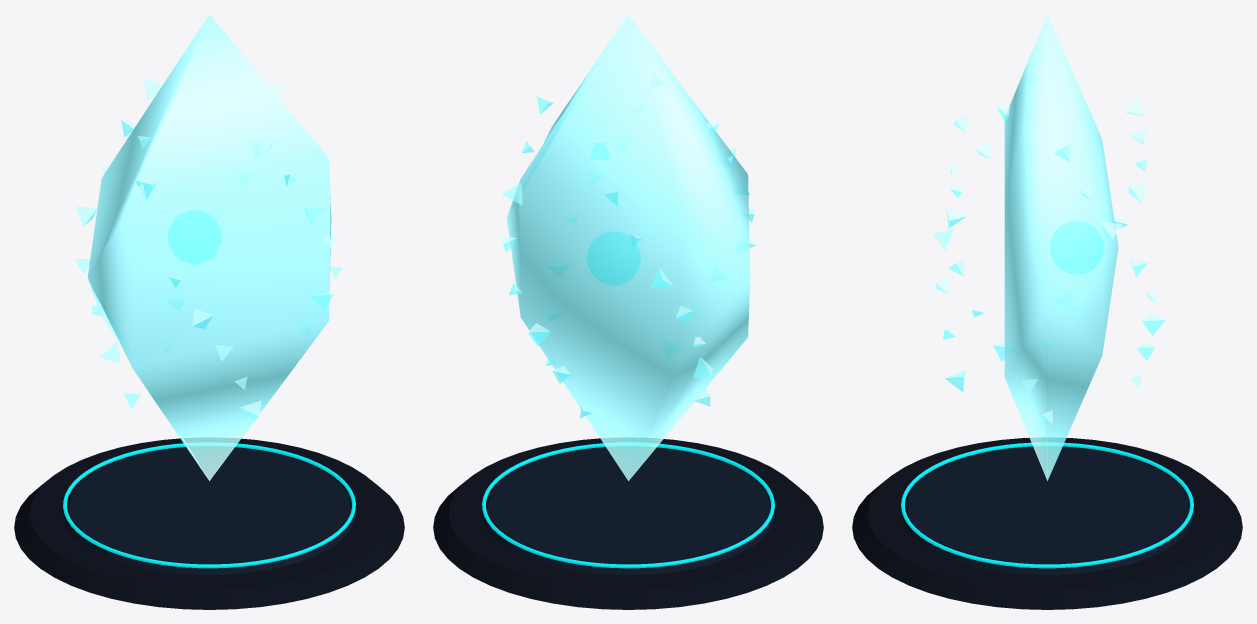
File: crystal.glb
3 views of the same model, side by side, from view 1: azimuth 30°, elevation 25°; view 2: azimuth 150°, elevation 25°; view 3: azimuth 270°, elevation 25° (orthographic).
Parts seen in each view (by area): view 1: MainCrystal, PlatformTier, PlatformDais, EnergyRing, InnerCore; view 2: MainCrystal, PlatformTier, PlatformDais, EnergyRing, InnerCore; view 3: MainCrystal, PlatformTier, PlatformDais, EnergyRing, InnerCore.
Boxes of the visible parts, left/top/right/bottom form: MainCrystal: left=87, top=14, right=331, bottom=480; PlatformTier: left=63, top=447, right=355, bottom=575; PlatformDais: left=14, top=438, right=404, bottom=609; EnergyRing: left=63, top=443, right=355, bottom=568; InnerCore: left=168, top=211, right=221, bottom=262; MainCrystal: left=506, top=14, right=750, bottom=480; PlatformTier: left=482, top=447, right=774, bottom=575; PlatformDais: left=433, top=438, right=823, bottom=609; EnergyRing: left=482, top=443, right=774, bottom=568; InnerCore: left=587, top=232, right=640, bottom=284; MainCrystal: left=1004, top=14, right=1118, bottom=480; PlatformTier: left=901, top=447, right=1193, bottom=575; PlatformDais: left=852, top=437, right=1242, bottom=609; EnergyRing: left=901, top=442, right=1193, bottom=568; InnerCore: left=1050, top=221, right=1102, bottom=273.
Size of the model in its own units: 2 by 2.9 by 2.
